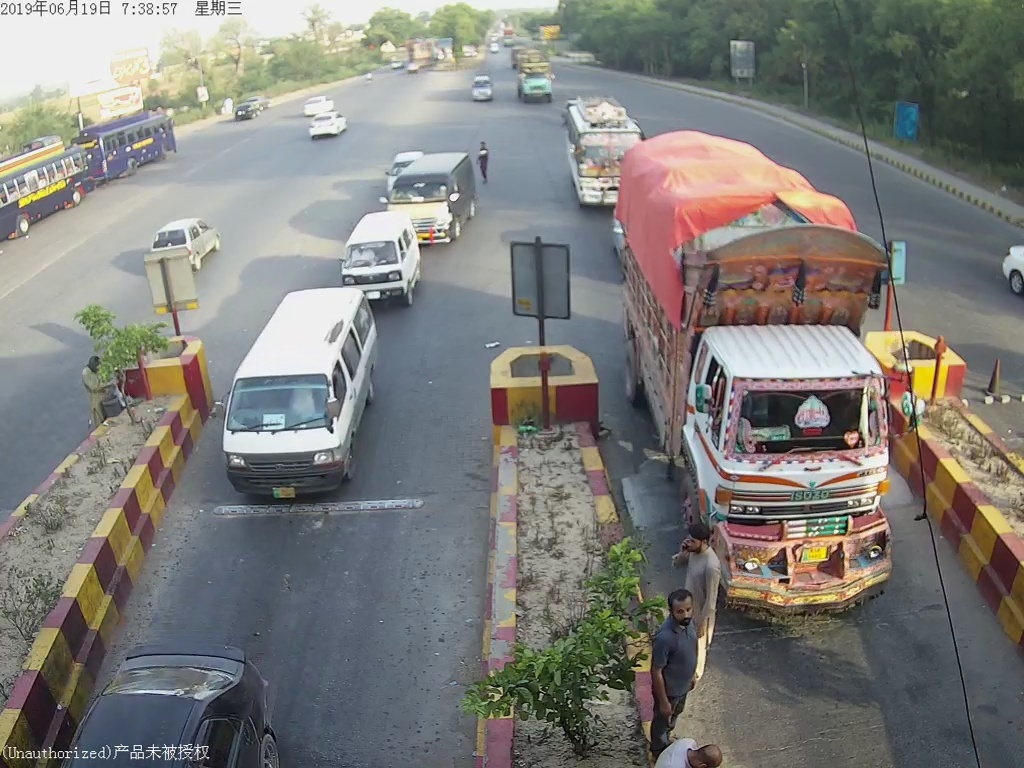Cat-1: (341, 215, 431, 311)
Cat-2: (214, 284, 381, 496), (396, 151, 474, 241)
Cat-3: (558, 89, 644, 217)
Cat-4: (621, 133, 910, 613), (514, 47, 554, 104)
